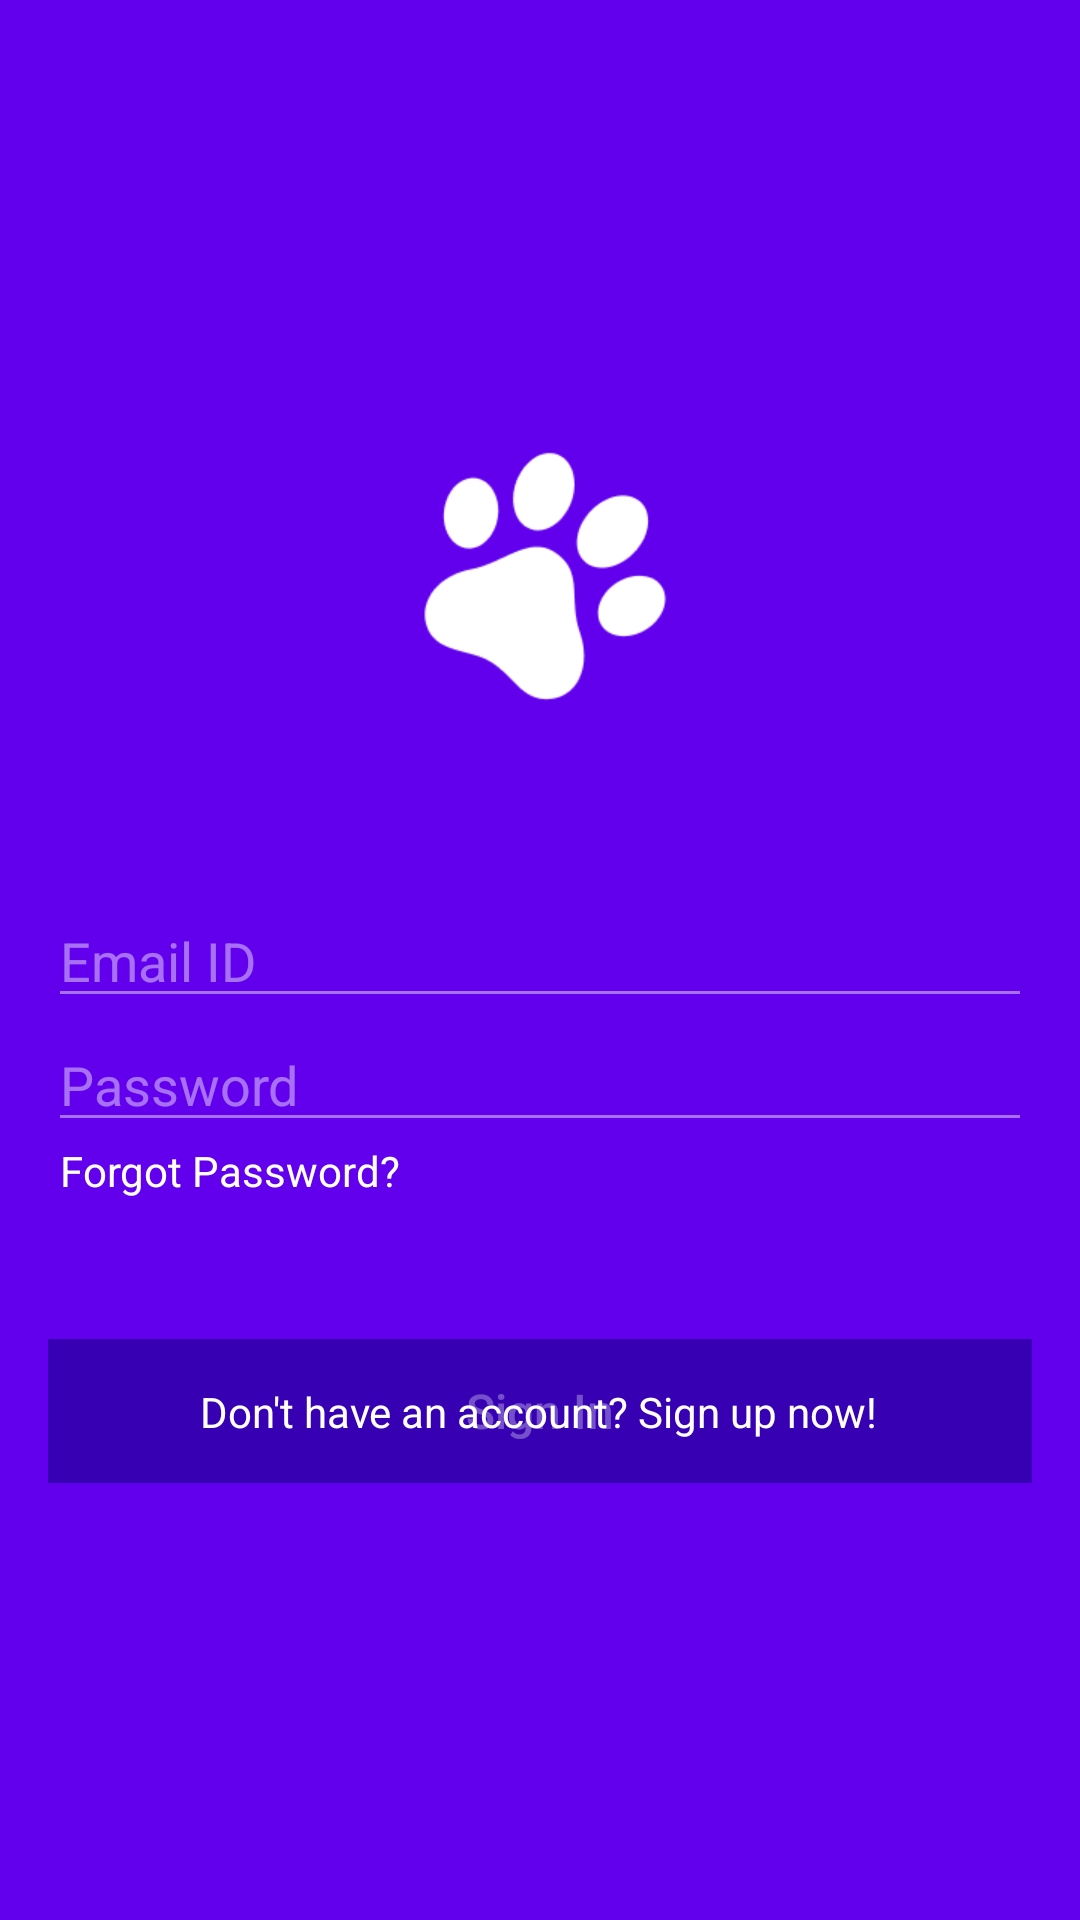

Screen size 1080w x 1920h. Icon name, then its center in pixels as (x=x, y=y):
mypaws hero: (x=545, y=576)
